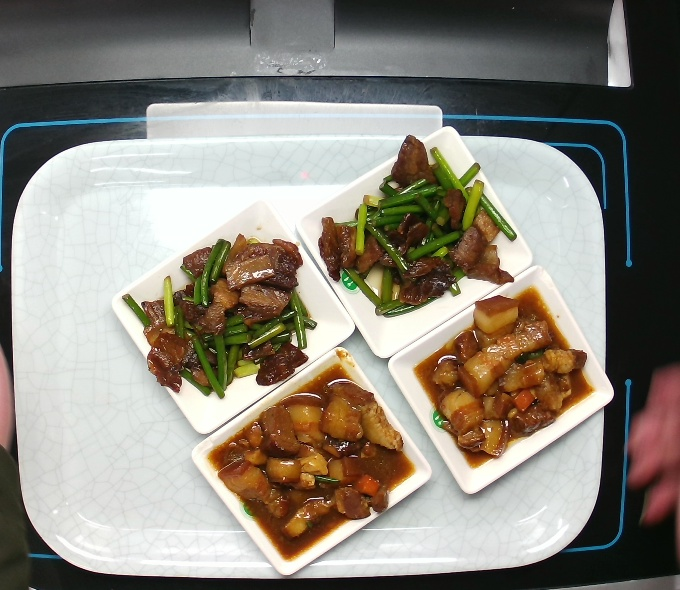wcq-HongShaoRou: (216, 382, 412, 546), (423, 295, 582, 468)
wcq-SuanMiaoChaoRou: (319, 132, 516, 315), (141, 232, 321, 398)
